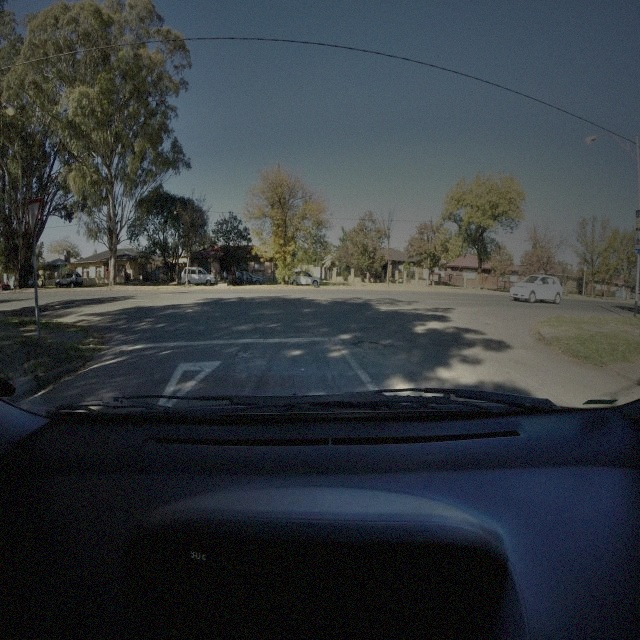pothole: (352, 338, 388, 353)
